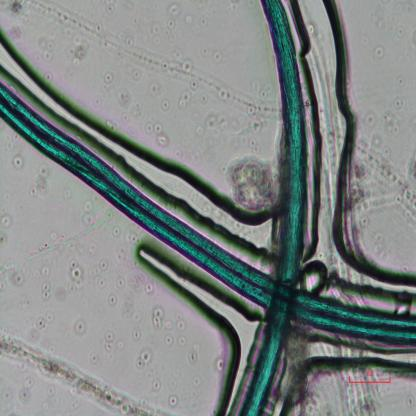Air bubble: (293, 2, 416, 309), (136, 243, 260, 414), (281, 325, 416, 414)
Background material: (0, 330, 159, 414), (350, 137, 416, 226), (226, 152, 278, 218), (100, 69, 142, 120), (80, 204, 123, 242), (148, 5, 190, 41), (154, 307, 188, 346), (382, 95, 413, 136), (360, 95, 380, 148), (198, 110, 232, 141), (3, 0, 26, 42), (243, 100, 263, 147), (160, 47, 191, 74), (26, 170, 52, 202), (49, 0, 75, 32), (42, 224, 68, 254), (144, 119, 170, 147), (68, 34, 91, 64), (0, 260, 24, 287), (196, 43, 224, 64), (37, 33, 54, 67), (92, 260, 110, 291), (35, 314, 62, 333), (38, 266, 52, 302), (70, 259, 86, 290), (393, 25, 416, 46), (146, 372, 166, 395), (211, 87, 236, 105), (134, 348, 154, 370), (0, 211, 12, 244), (131, 310, 143, 343), (369, 40, 384, 63), (117, 33, 140, 48), (177, 86, 191, 109), (102, 329, 116, 352), (226, 0, 243, 17), (112, 252, 128, 270), (94, 24, 109, 40), (122, 232, 138, 247), (12, 153, 24, 171), (75, 318, 86, 337), (106, 3, 118, 20), (166, 395, 179, 409), (114, 276, 126, 291), (198, 18, 213, 29), (108, 293, 118, 308), (146, 281, 156, 294), (188, 350, 197, 364), (191, 80, 202, 91), (214, 361, 225, 372), (198, 93, 206, 105)
Microfibre: (0, 83, 416, 348), (238, 0, 307, 414)
